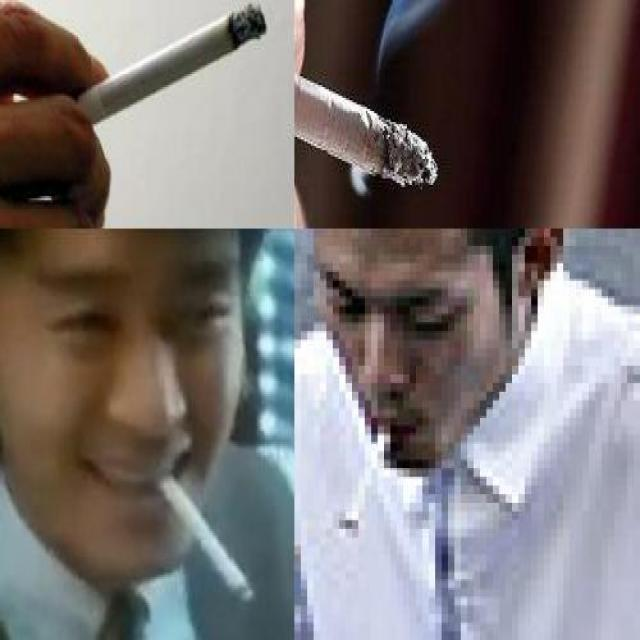smoke: (294, 8, 440, 192), (66, 1, 267, 128), (147, 462, 257, 604), (326, 408, 397, 537)
